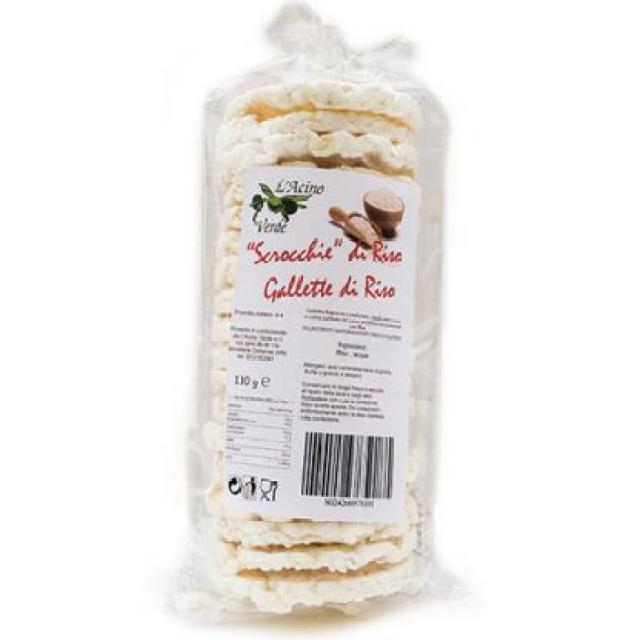Gallette di riso: (195, 5, 462, 628)
